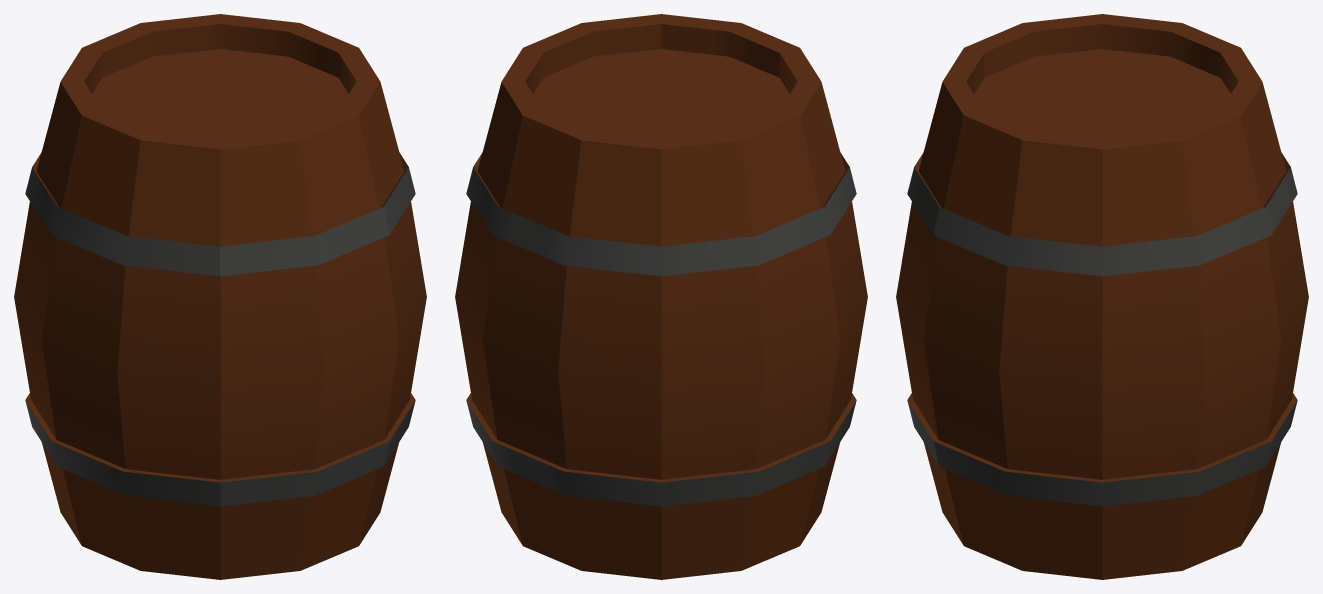
Rendered from varil2.fbx.
3 renders of one model, left to right at view 1: azimuth 30°, elevation 25°; view 2: azimuth 150°, elevation 25°; view 3: azimuth 270°, elevation 25°, orthographic.
Visible parts, largest first — view 1: Cylinder; view 2: Cylinder; view 3: Cylinder.
Part boxes in pixels (box(x1,y1,x2,y2)): Cylinder: box(14, 14, 426, 579); Cylinder: box(455, 14, 867, 579); Cylinder: box(896, 14, 1308, 579).
Size of the model in its own units: 454 by 522 by 454.
Materials: 2 (1 with a texture image).
